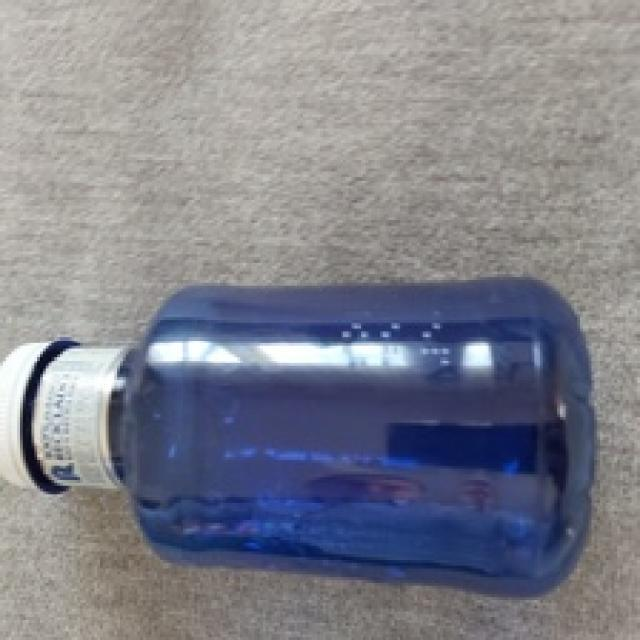Plastic: (3, 276, 595, 600)
